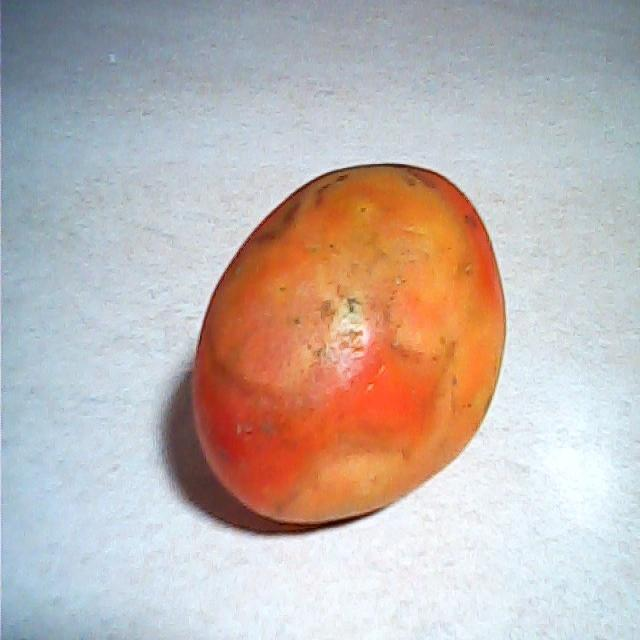defectuoso: (175, 159, 514, 536)
